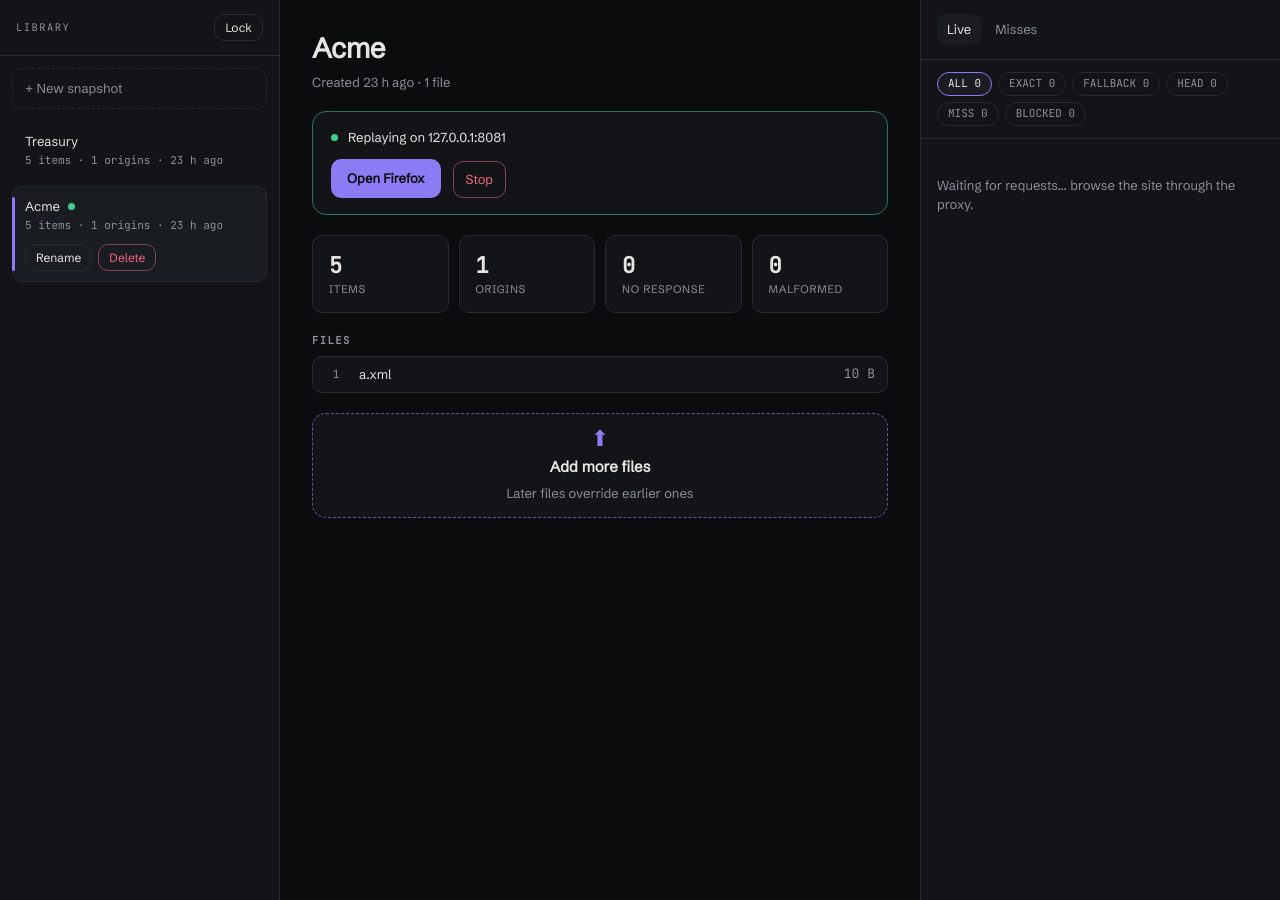
Scenario: a missing Firefox is reported with the server's message
Click the button "Open Firefox" at (386, 179), box [331,159,441,198]
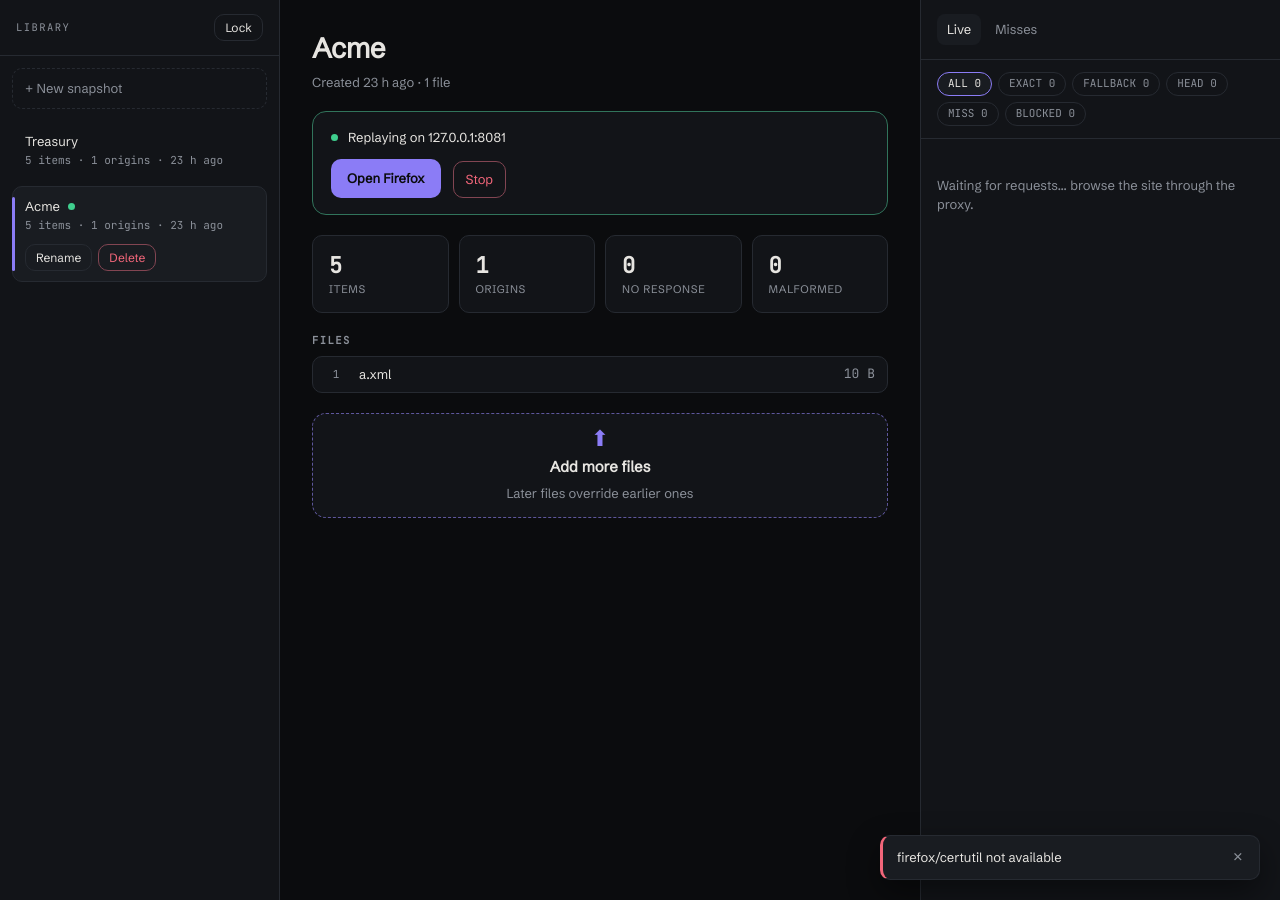
Now the message shows "firefox/certutil not available", box [897,849,1062,865]
